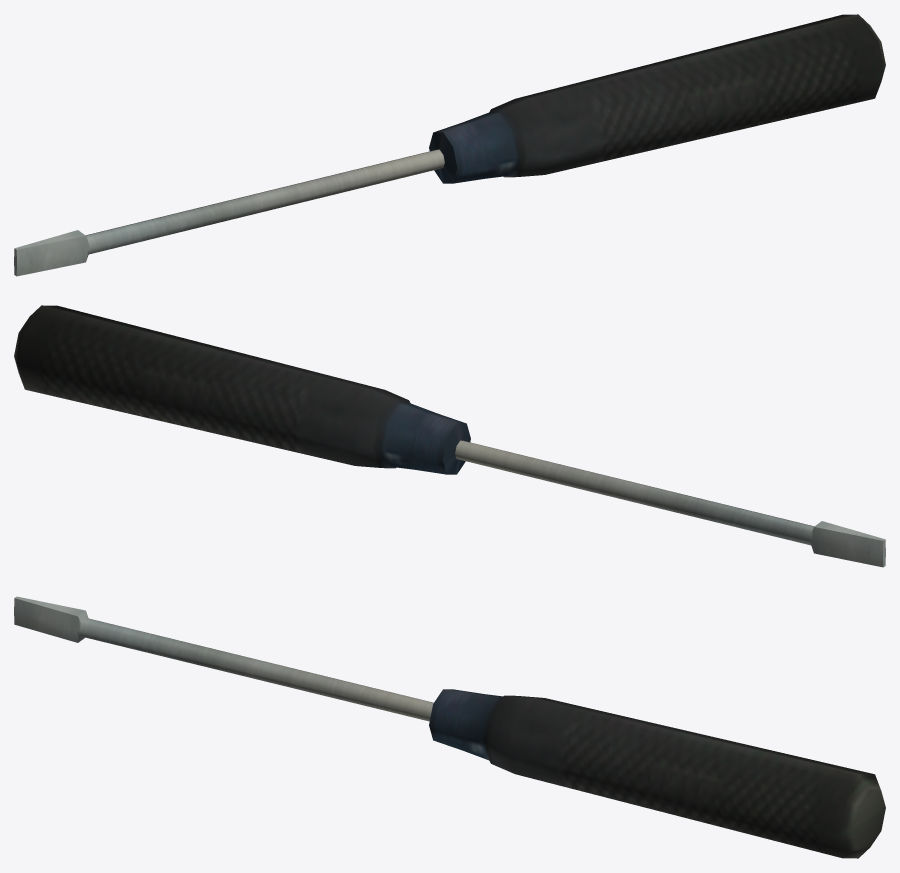
The model's file is screw driver M.fbx.
3 views of the same model, one above another, from view 1: azimuth 30°, elevation 25°; view 2: azimuth 150°, elevation 25°; view 3: azimuth 330°, elevation 25° (orthographic).
Visible parts, largest first — view 1: screw_driver_M; view 2: screw_driver_M; view 3: screw_driver_M.
Part boxes in pixels (x1=…): screw_driver_M: x1=14, y1=14, x2=885, y2=276; screw_driver_M: x1=14, y1=305, x2=885, y2=567; screw_driver_M: x1=14, y1=596, x2=885, y2=858.
Bounding box in the file's own units: 0.4314 × 0.0408 × 0.0408.
